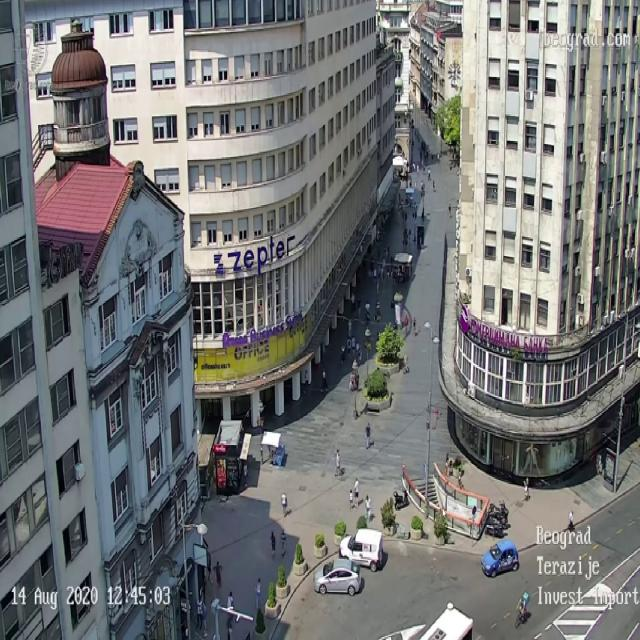bus: (420, 600, 471, 640)
car: (314, 558, 362, 596), (341, 532, 386, 569), (481, 539, 519, 577)
